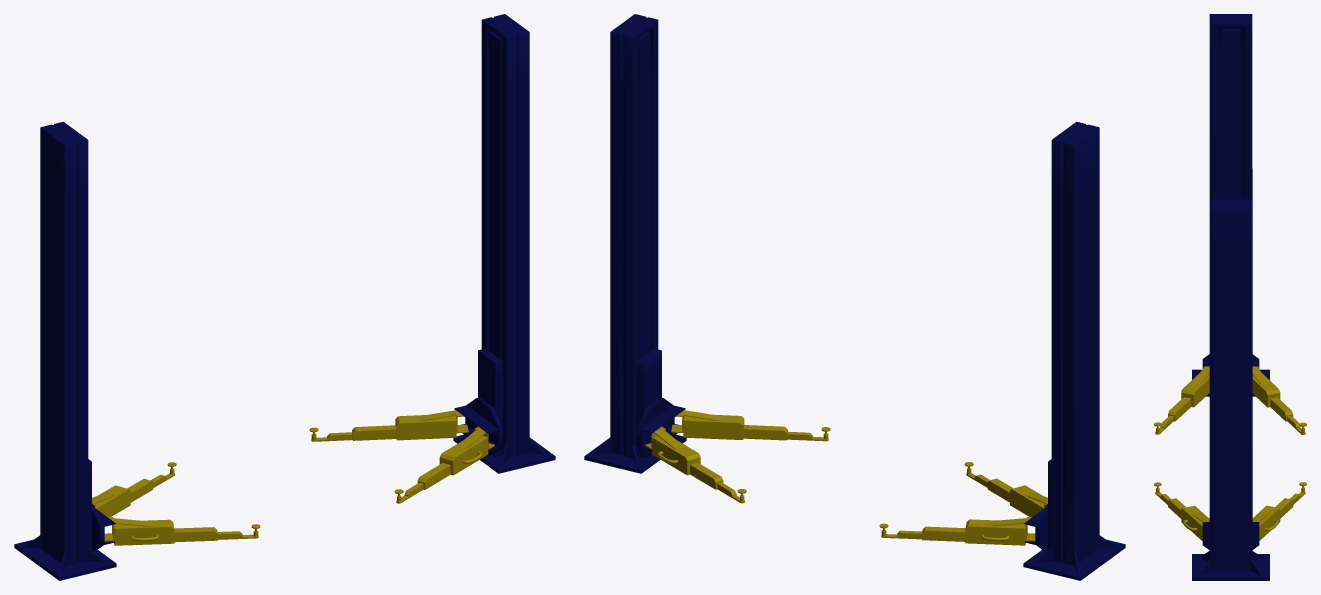
File: Car lift.fbx
3 views of the same model, side by side, from view 1: azimuth 30°, elevation 25°; view 2: azimuth 150°, elevation 25°; view 3: azimuth 270°, elevation 25° (orthographic). The views are drawn at different scales.
Visible parts, largest first — view 1: Car Lift, Car Lift001, Lift Hand013, Lift Hand001; view 2: Car Lift, Car Lift001, Lift Hand013, Lift Hand001; view 3: Car Lift001, Car Lift, Lift Hand001, Lift Hand013.
Boxes of the visible parts, x1,y1,x2,y2 form: Car Lift: (14, 121, 116, 580); Car Lift001: (453, 14, 555, 473); Lift Hand013: (309, 410, 494, 503); Lift Hand001: (92, 462, 260, 545); Car Lift: (1023, 121, 1125, 580); Car Lift001: (584, 14, 686, 473); Lift Hand013: (645, 410, 830, 503); Lift Hand001: (879, 462, 1047, 545); Car Lift001: (1192, 199, 1269, 580); Car Lift: (1192, 14, 1269, 396); Lift Hand001: (1154, 366, 1306, 434); Lift Hand013: (1154, 482, 1306, 540).
Bounding box in the file's own units: 65.68 × 53.66 × 20.36.
